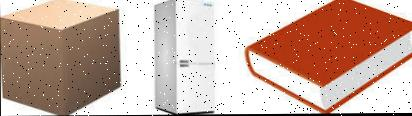cube: (0, 0, 125, 116)
